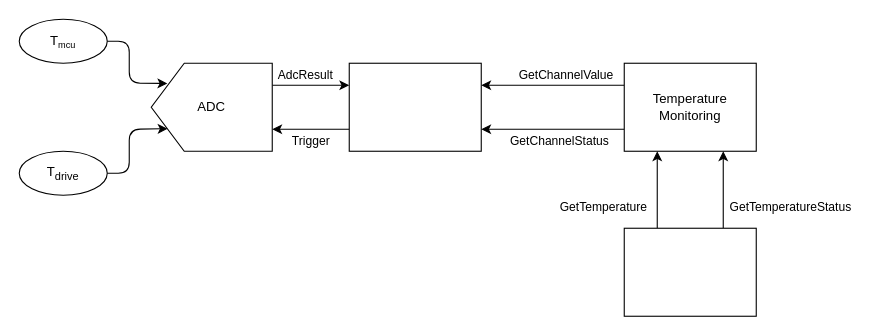
This 870x336 diagram has some shape labels left out. Here are the shapes that lost their labels. From the top down, the centre of each, then its label:
At [414,106]: "Time Triggered ADC".
At [689,271]: "Current Monitoring/Control".
